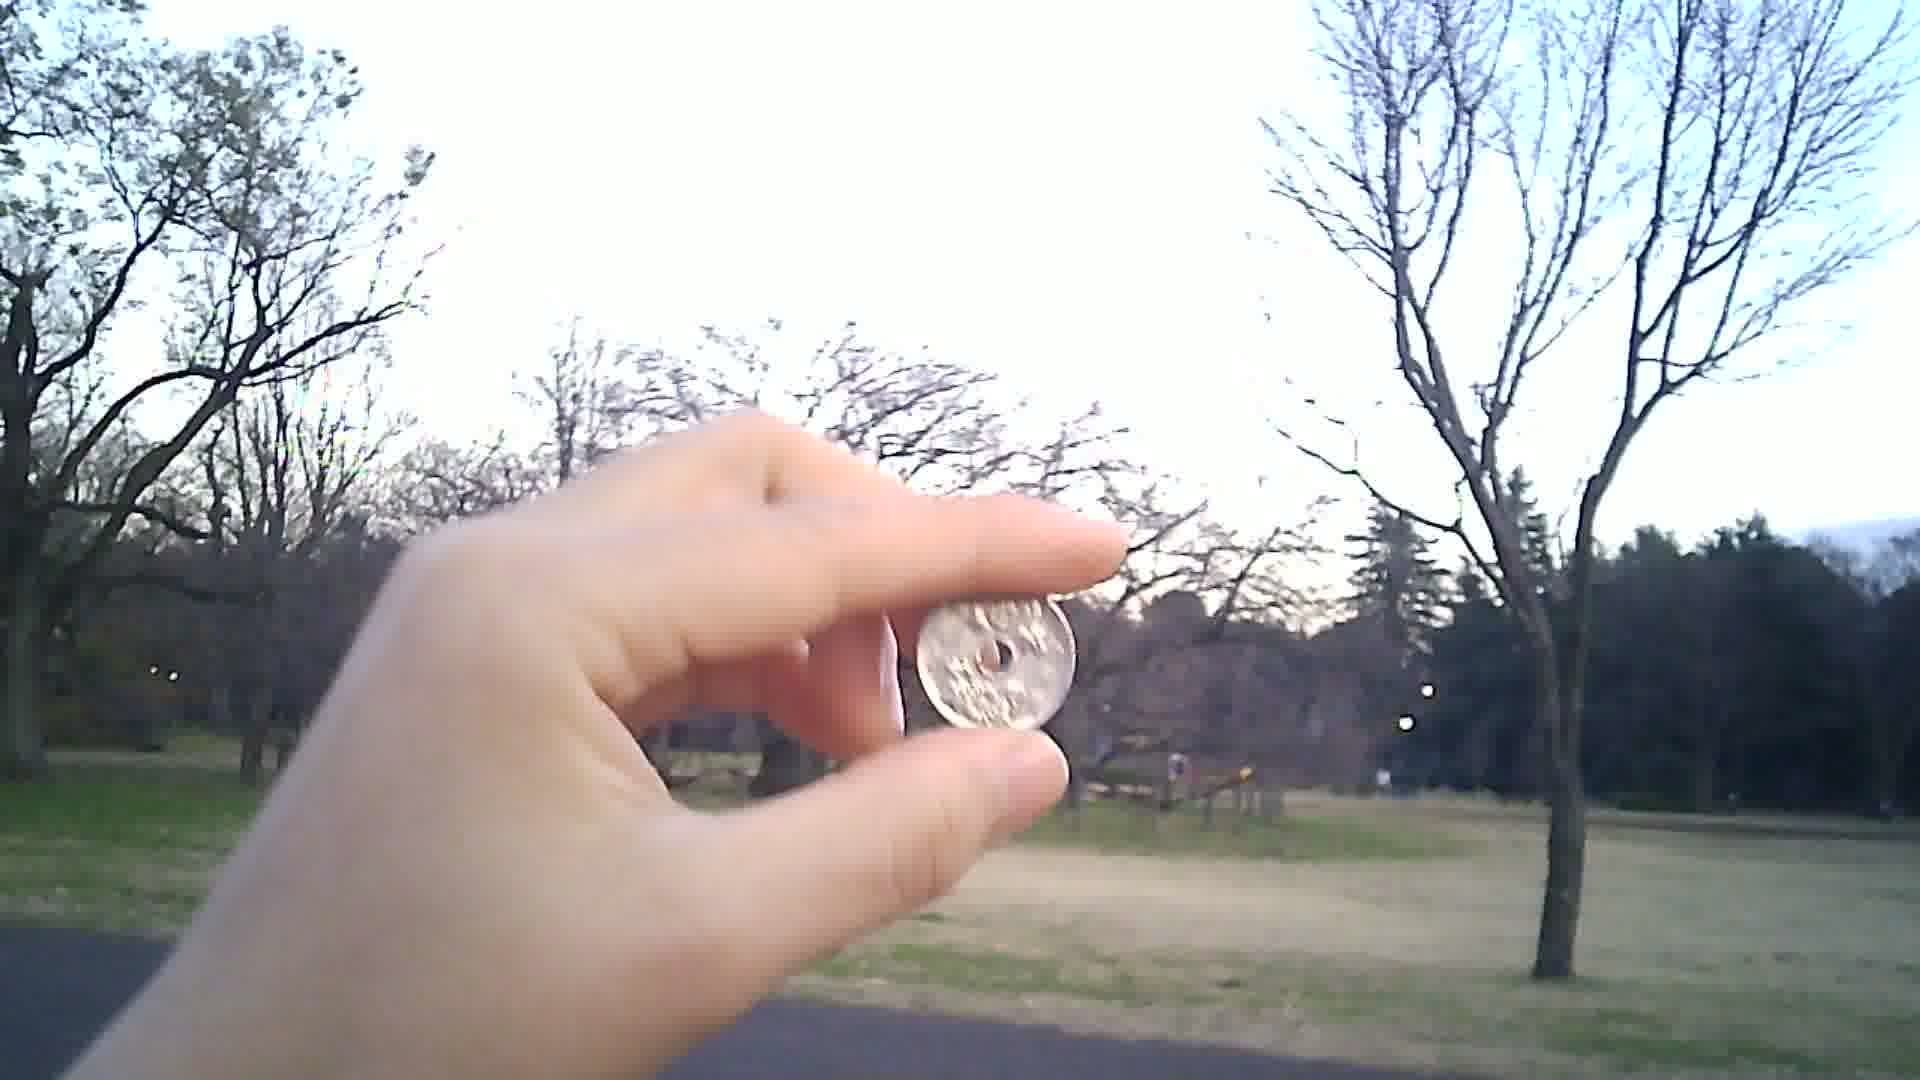50 Yen: (911, 570, 1075, 731)
